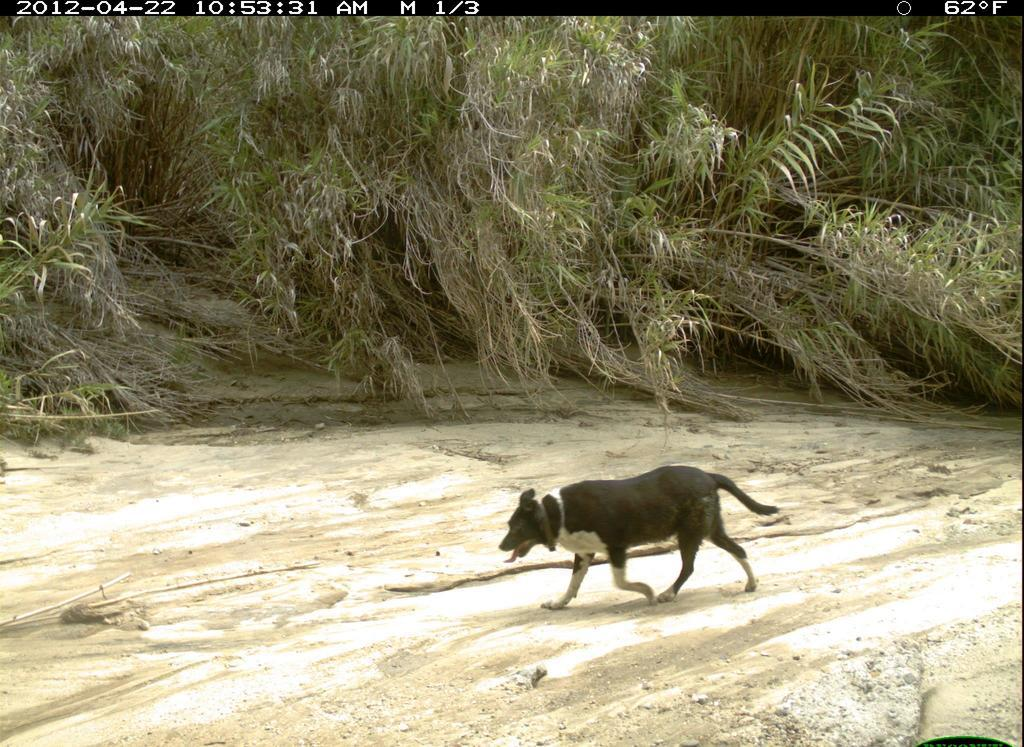dog: (495, 464, 786, 615)
